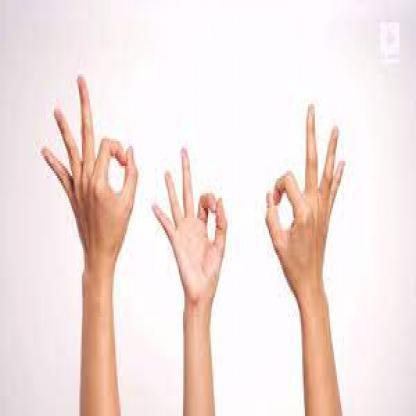ok: (36, 66, 140, 274), (262, 99, 346, 294), (150, 142, 230, 310)
